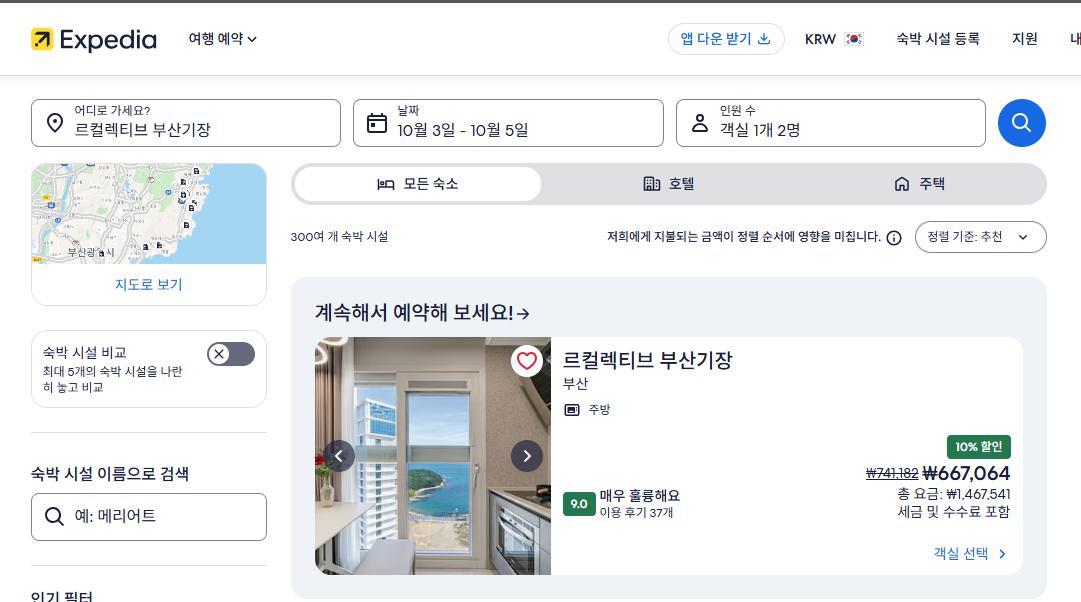button: (354, 100, 669, 146), (38, 98, 338, 143), (688, 99, 980, 144), (568, 158, 779, 208), (294, 162, 537, 203), (800, 165, 1039, 206), (34, 266, 267, 303), (662, 22, 779, 56), (898, 30, 986, 56), (927, 540, 1009, 567), (811, 31, 871, 53), (211, 340, 258, 367), (1018, 108, 1052, 143), (512, 347, 539, 375), (327, 442, 351, 468), (1010, 34, 1047, 47), (518, 443, 535, 468)
checkbox: (186, 34, 261, 49)
input_field: (31, 492, 263, 542)
